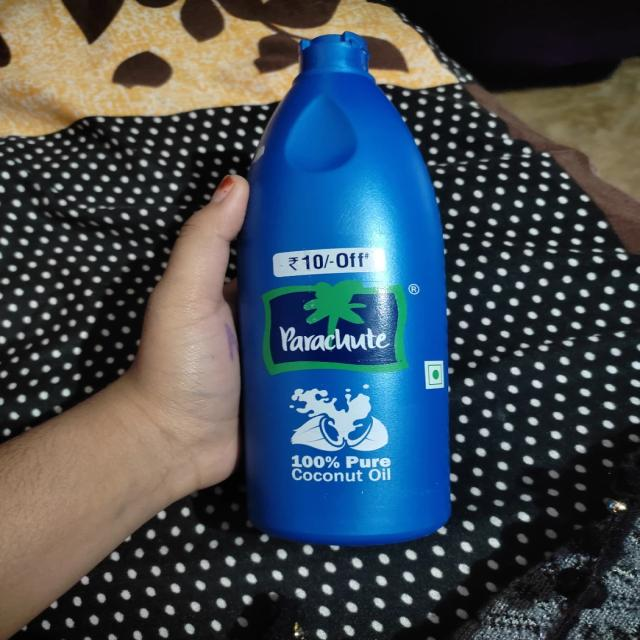parachute_oil: (225, 22, 459, 555)
